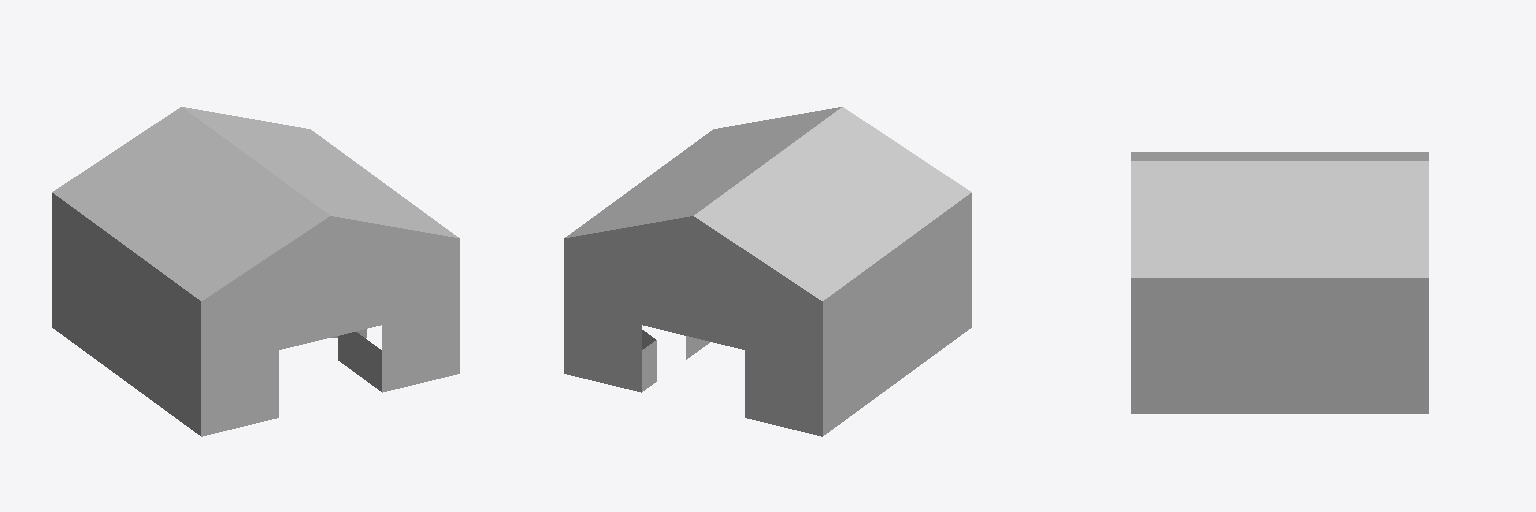
File: sm_barn_ccv.obj
The picture shows the model from 3 angles: view 1: azimuth 30°, elevation 25°; view 2: azimuth 150°, elevation 25°; view 3: azimuth 270°, elevation 25°; orthographic projection.
Visible parts, largest first — view 1: sm_barn_ccv; view 2: sm_barn_ccv; view 3: sm_barn_ccv.
Boxes of the visible parts, <box> form: sm_barn_ccv: <box>52,107,459,436</box>; sm_barn_ccv: <box>564,107,971,436</box>; sm_barn_ccv: <box>1131,152,1428,413</box>.
Bounding box in the file's own units: 10 × 7 × 10.